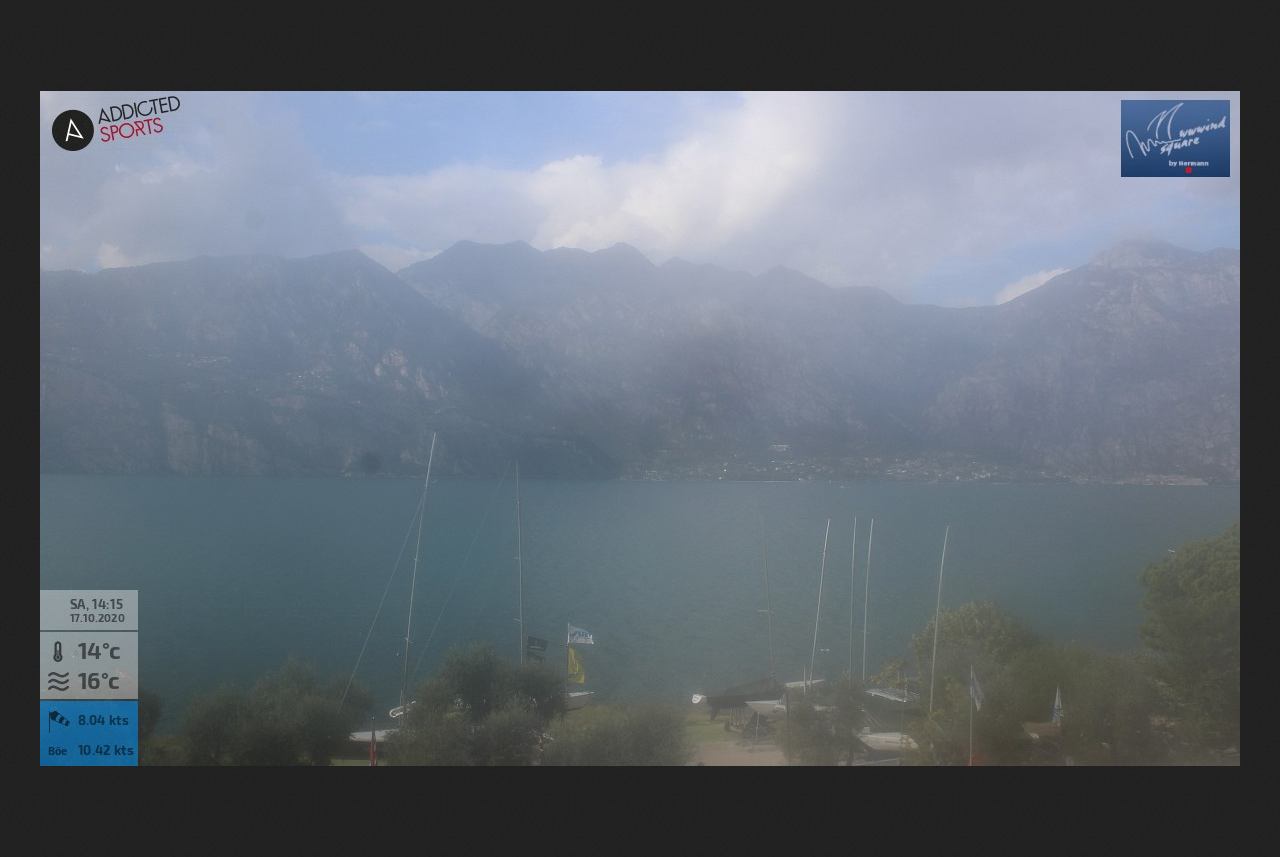no: (962, 662, 987, 713)
yes: (562, 642, 588, 684), (563, 619, 596, 647), (526, 635, 552, 653)
